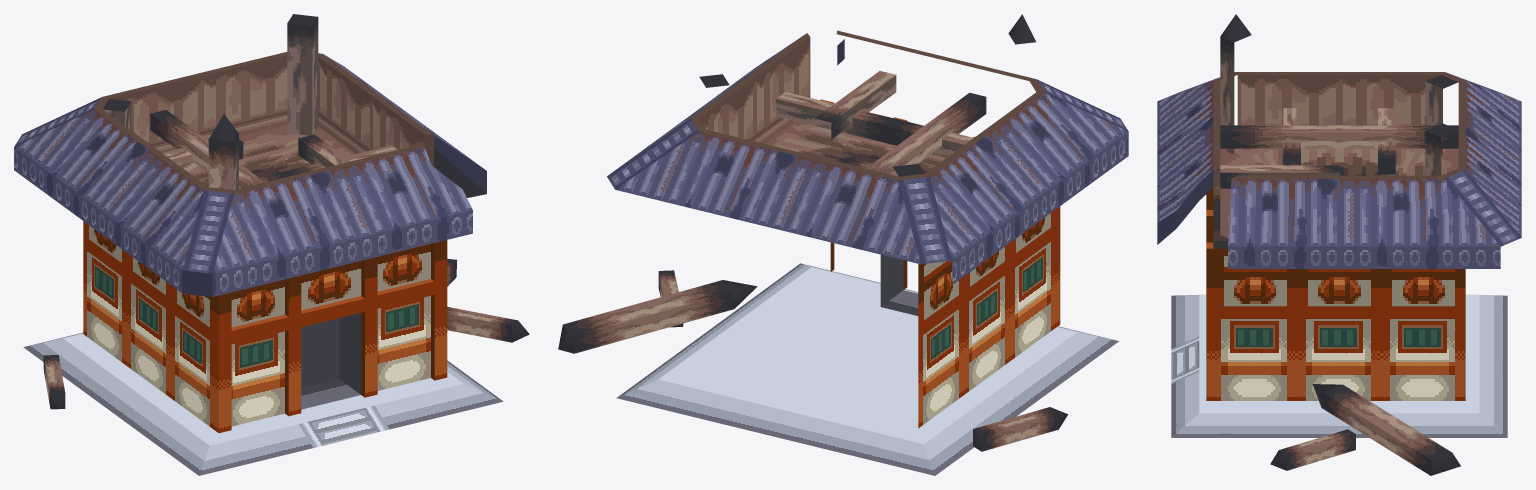
3 renders of one model, left to right at view 1: azimuth 30°, elevation 25°; view 2: azimuth 150°, elevation 25°; view 3: azimuth 270°, elevation 25°, orthographic. The views are drawn at different scales.
Bounding box in the file's own units: 8.67 × 6.08 × 6.5.
4 materials, 4 textured.
